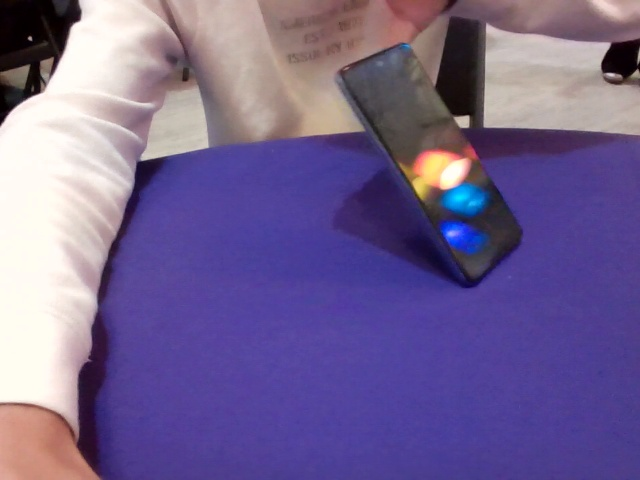celular: (333, 41, 523, 287)
